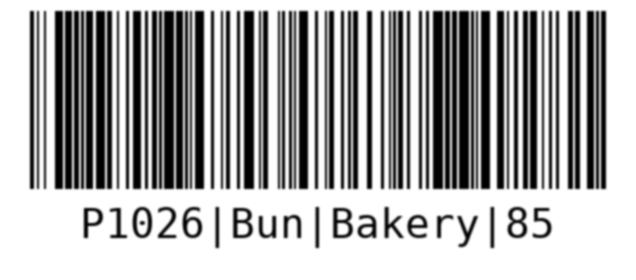milk: (28, 10, 604, 254)
